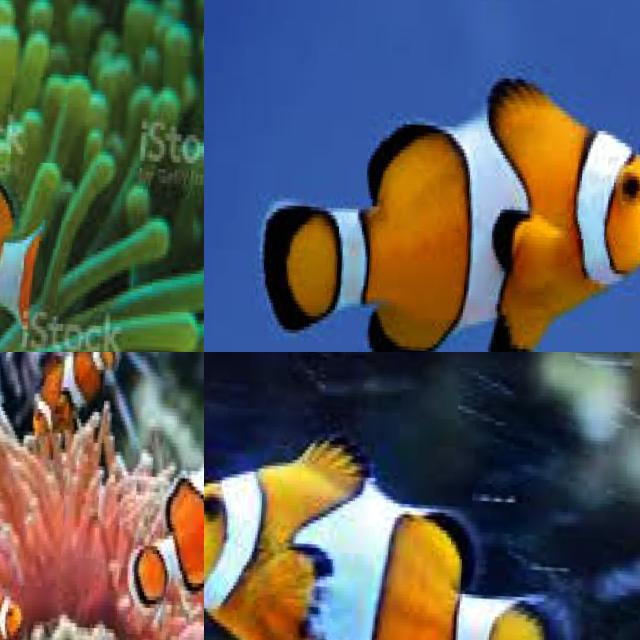Amphiprion-percula: (209, 33, 640, 352), (204, 396, 613, 640), (0, 66, 170, 352), (120, 391, 204, 635), (2, 352, 131, 475), (131, 352, 204, 422), (0, 559, 44, 640)
